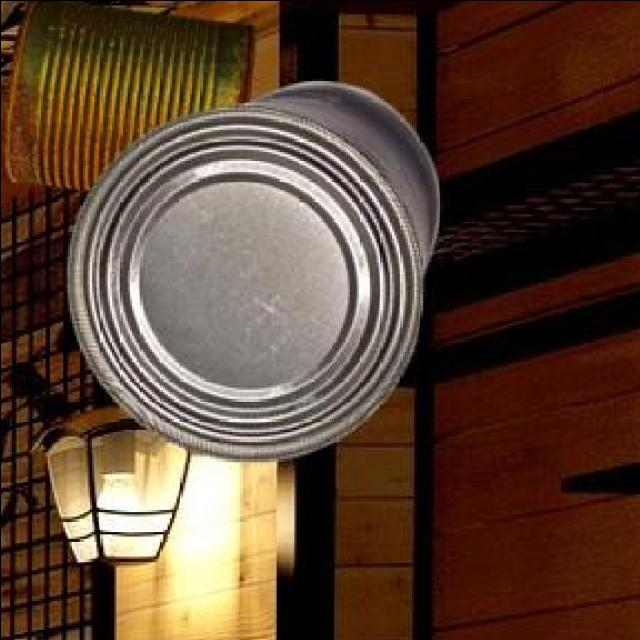logam: (70, 77, 441, 457), (6, 0, 257, 186)
